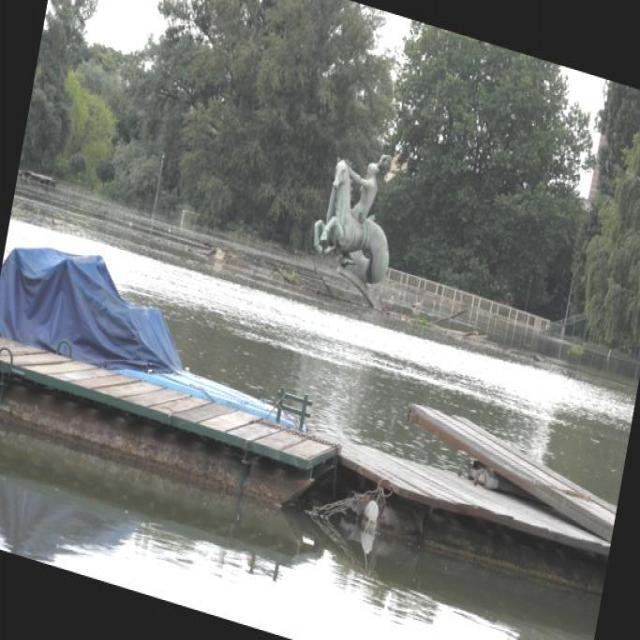flood: (0, 182, 635, 531), (0, 374, 607, 639)
